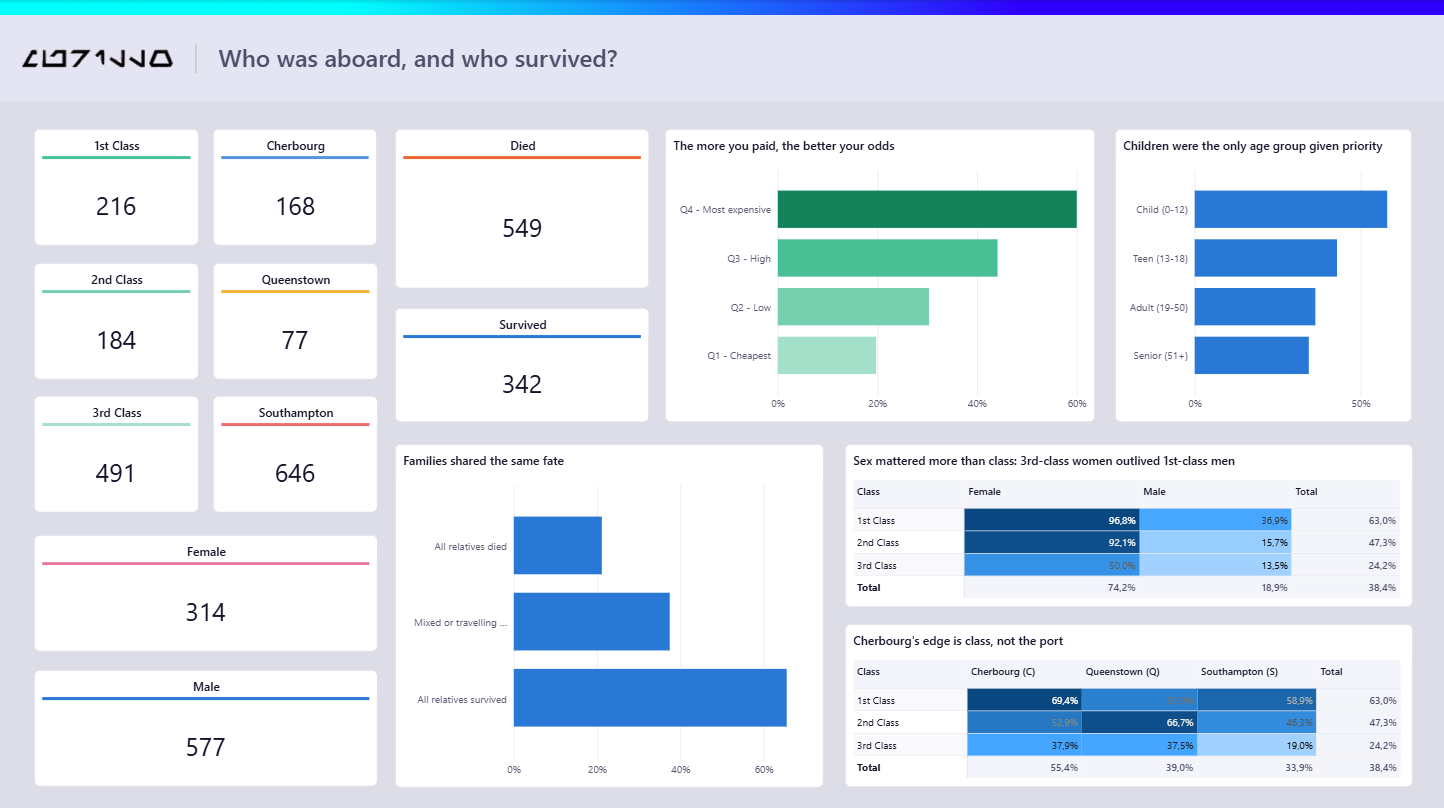

What the dashboard file says about the page in this screenshot:
{"tool":"powerbi","page":{"name":"Overview","canvas":[1920,1080],"ordinal":0},"visuals":[{"type":"cardVisual","title":"1st Class","fields":{"Data":["CountNonNull(f_titanic.Pclass)"]},"box":[45.2,172.2,218.8,154.7],"z":0},{"type":"cardVisual","title":"2nd Class","fields":{"Data":["CountNonNull(f_titanic.Pclass)"]},"box":[45.2,350.2,218.8,154.7],"z":1000},{"type":"cardVisual","title":"3rd Class","fields":{"Data":["CountNonNull(f_titanic.Pclass)"]},"box":[45.2,526.7,218.8,154.7],"z":2000},{"type":"cardVisual","title":"Cherbourg","fields":{"Data":["CountNonNull(f_titanic.Embarked)"]},"box":[283.3,171.7,218.3,155],"z":3000},{"type":"cardVisual","title":"Queenstown","fields":{"Data":["CountNonNull(f_titanic.Embarked)"]},"box":[283,350.2,218.8,154.7],"z":4000},{"type":"cardVisual","title":"Southampton","fields":{"Data":["CountNonNull(f_titanic.Embarked)"]},"box":[283,526.7,218.8,154.7],"z":5000},{"type":"cardVisual","title":"Female","fields":{"Data":["CountNonNull(f_titanic.Sex)"]},"box":[45.2,712,456.7,154.7],"z":6000},{"type":"cardVisual","title":"Male","fields":{"Data":["CountNonNull(f_titanic.Sex)"]},"box":[45.2,891.4,456.7,154.7],"z":7000},{"type":"pivotTable","title":"Cherbourg''s edge is class, not the port","fields":{"Columns":["d_porto_embarque.NomePorto"],"Rows":["d_classe.NomeClasse"],"Values":["_Measures.Taxa_Sobrevivencia"]},"box":[1123.3,830,755,216.7],"z":8000},{"type":"pivotTable","title":"Sex mattered more than class: 3rd-class women outlived 1st-class men","fields":{"Columns":["d_sexo.Descricao"],"Rows":["d_classe.NomeClasse"],"Values":["_Measures.Taxa_Sobrevivencia"]},"box":[1123.3,590,755,216.7],"z":9000},{"type":"clusteredBarChart","title":"Children were the only age group given priority","fields":{"Category":["d_faixa_etaria.Faixa"],"Y":["_Measures.Taxa_Sobrevivencia"]},"box":[1483.3,171.7,395,390],"z":10000},{"type":"textbox","box":[280,44.3,828.6,72.9],"z":11000},{"type":"cardVisual","title":"Died","fields":{"Data":["_Measures.Total_Passengers"]},"box":[525,171.7,338.3,211.7],"z":12000},{"type":"cardVisual","title":"Survived","fields":{"Data":["_Measures.Total_Passengers"]},"box":[525,410,338.3,151.7],"z":13000},{"type":"barChart","title":"Families shared the same fate","fields":{"Category":["f_titanic.Family Outcome"],"Y":["_Measures.Taxa_Sobrevivencia"]},"box":[525,590,570,456.7],"z":14000},{"type":"clusteredBarChart","title":"\tThe more you paid, the better your odds","fields":{"Category":["d_grupo_tarifa.FaixaTarifa"],"Y":["_Measures.Taxa_Sobrevivencia"]},"box":[885,171.7,571.7,390],"z":15000}]}

Visuals, with their boxes in screenshot pixels (x1, y1, x2, y2), scaled from the page's 1920x1080 canvas onto the 1444x808 screenshot:
"1st Class" cardVisual: x1=34 y1=129 x2=199 y2=245
"2nd Class" cardVisual: x1=34 y1=262 x2=199 y2=378
"3rd Class" cardVisual: x1=34 y1=394 x2=199 y2=510
"Cherbourg" cardVisual: x1=213 y1=128 x2=377 y2=244
"Queenstown" cardVisual: x1=213 y1=262 x2=377 y2=378
"Southampton" cardVisual: x1=213 y1=394 x2=377 y2=510
"Female" cardVisual: x1=34 y1=533 x2=377 y2=648
"Male" cardVisual: x1=34 y1=667 x2=377 y2=783
"Cherbourg''s edge is class, not the port" pivotTable: x1=845 y1=621 x2=1413 y2=783
"Sex mattered more than class: 3rd-class women outlived 1st-class men" pivotTable: x1=845 y1=441 x2=1413 y2=604
"Children were the only age group given priority" clusteredBarChart: x1=1116 y1=128 x2=1413 y2=420
textbox: x1=211 y1=33 x2=834 y2=88
"Died" cardVisual: x1=395 y1=128 x2=649 y2=287
"Survived" cardVisual: x1=395 y1=307 x2=649 y2=420
"Families shared the same fate" barChart: x1=395 y1=441 x2=824 y2=783
"	The more you paid, the better your odds" clusteredBarChart: x1=666 y1=128 x2=1096 y2=420
